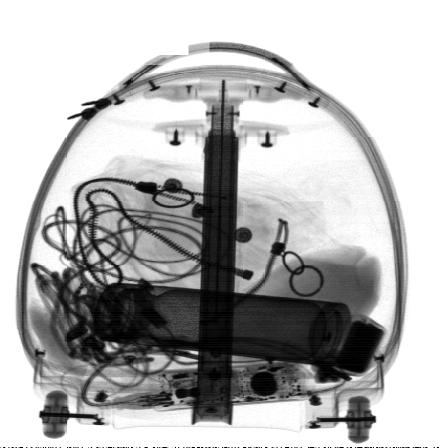Powerbank: (331, 315, 386, 378)
